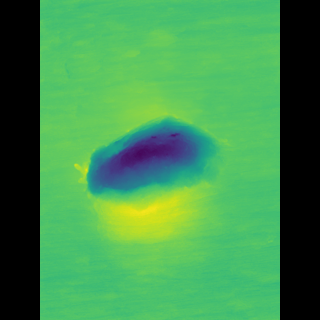Loch: (91, 105, 218, 216)
